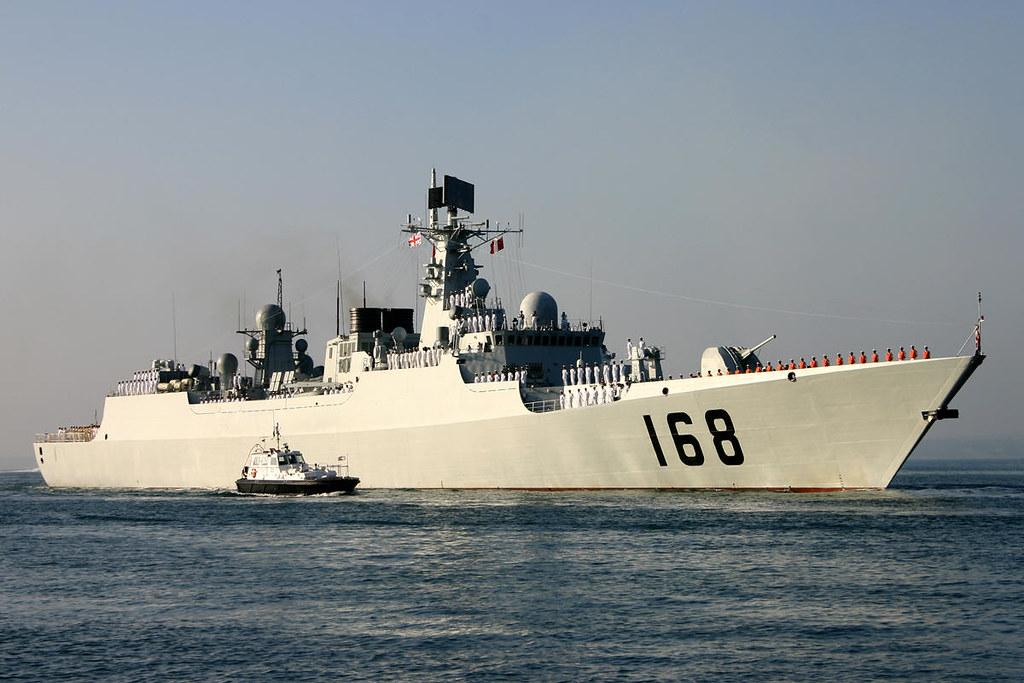Warship: (28, 152, 994, 504)
